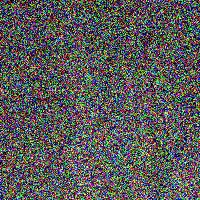inclusion: (138, 0, 181, 196), (93, 44, 126, 142)
